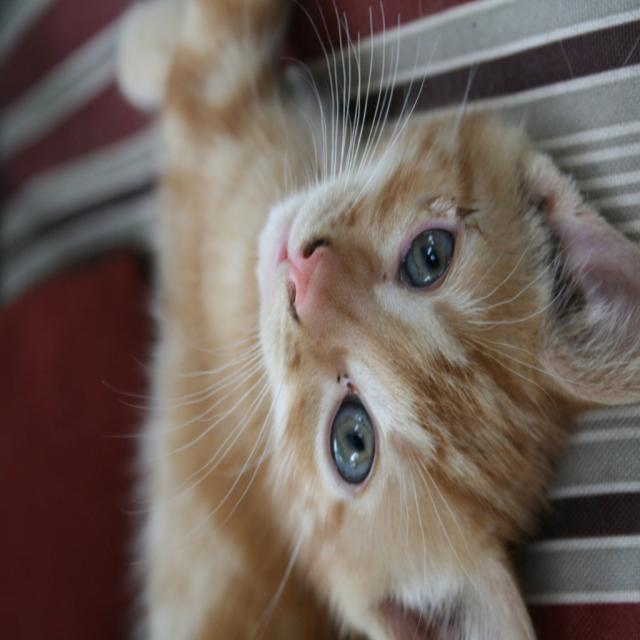Cat: (108, 0, 639, 638)
